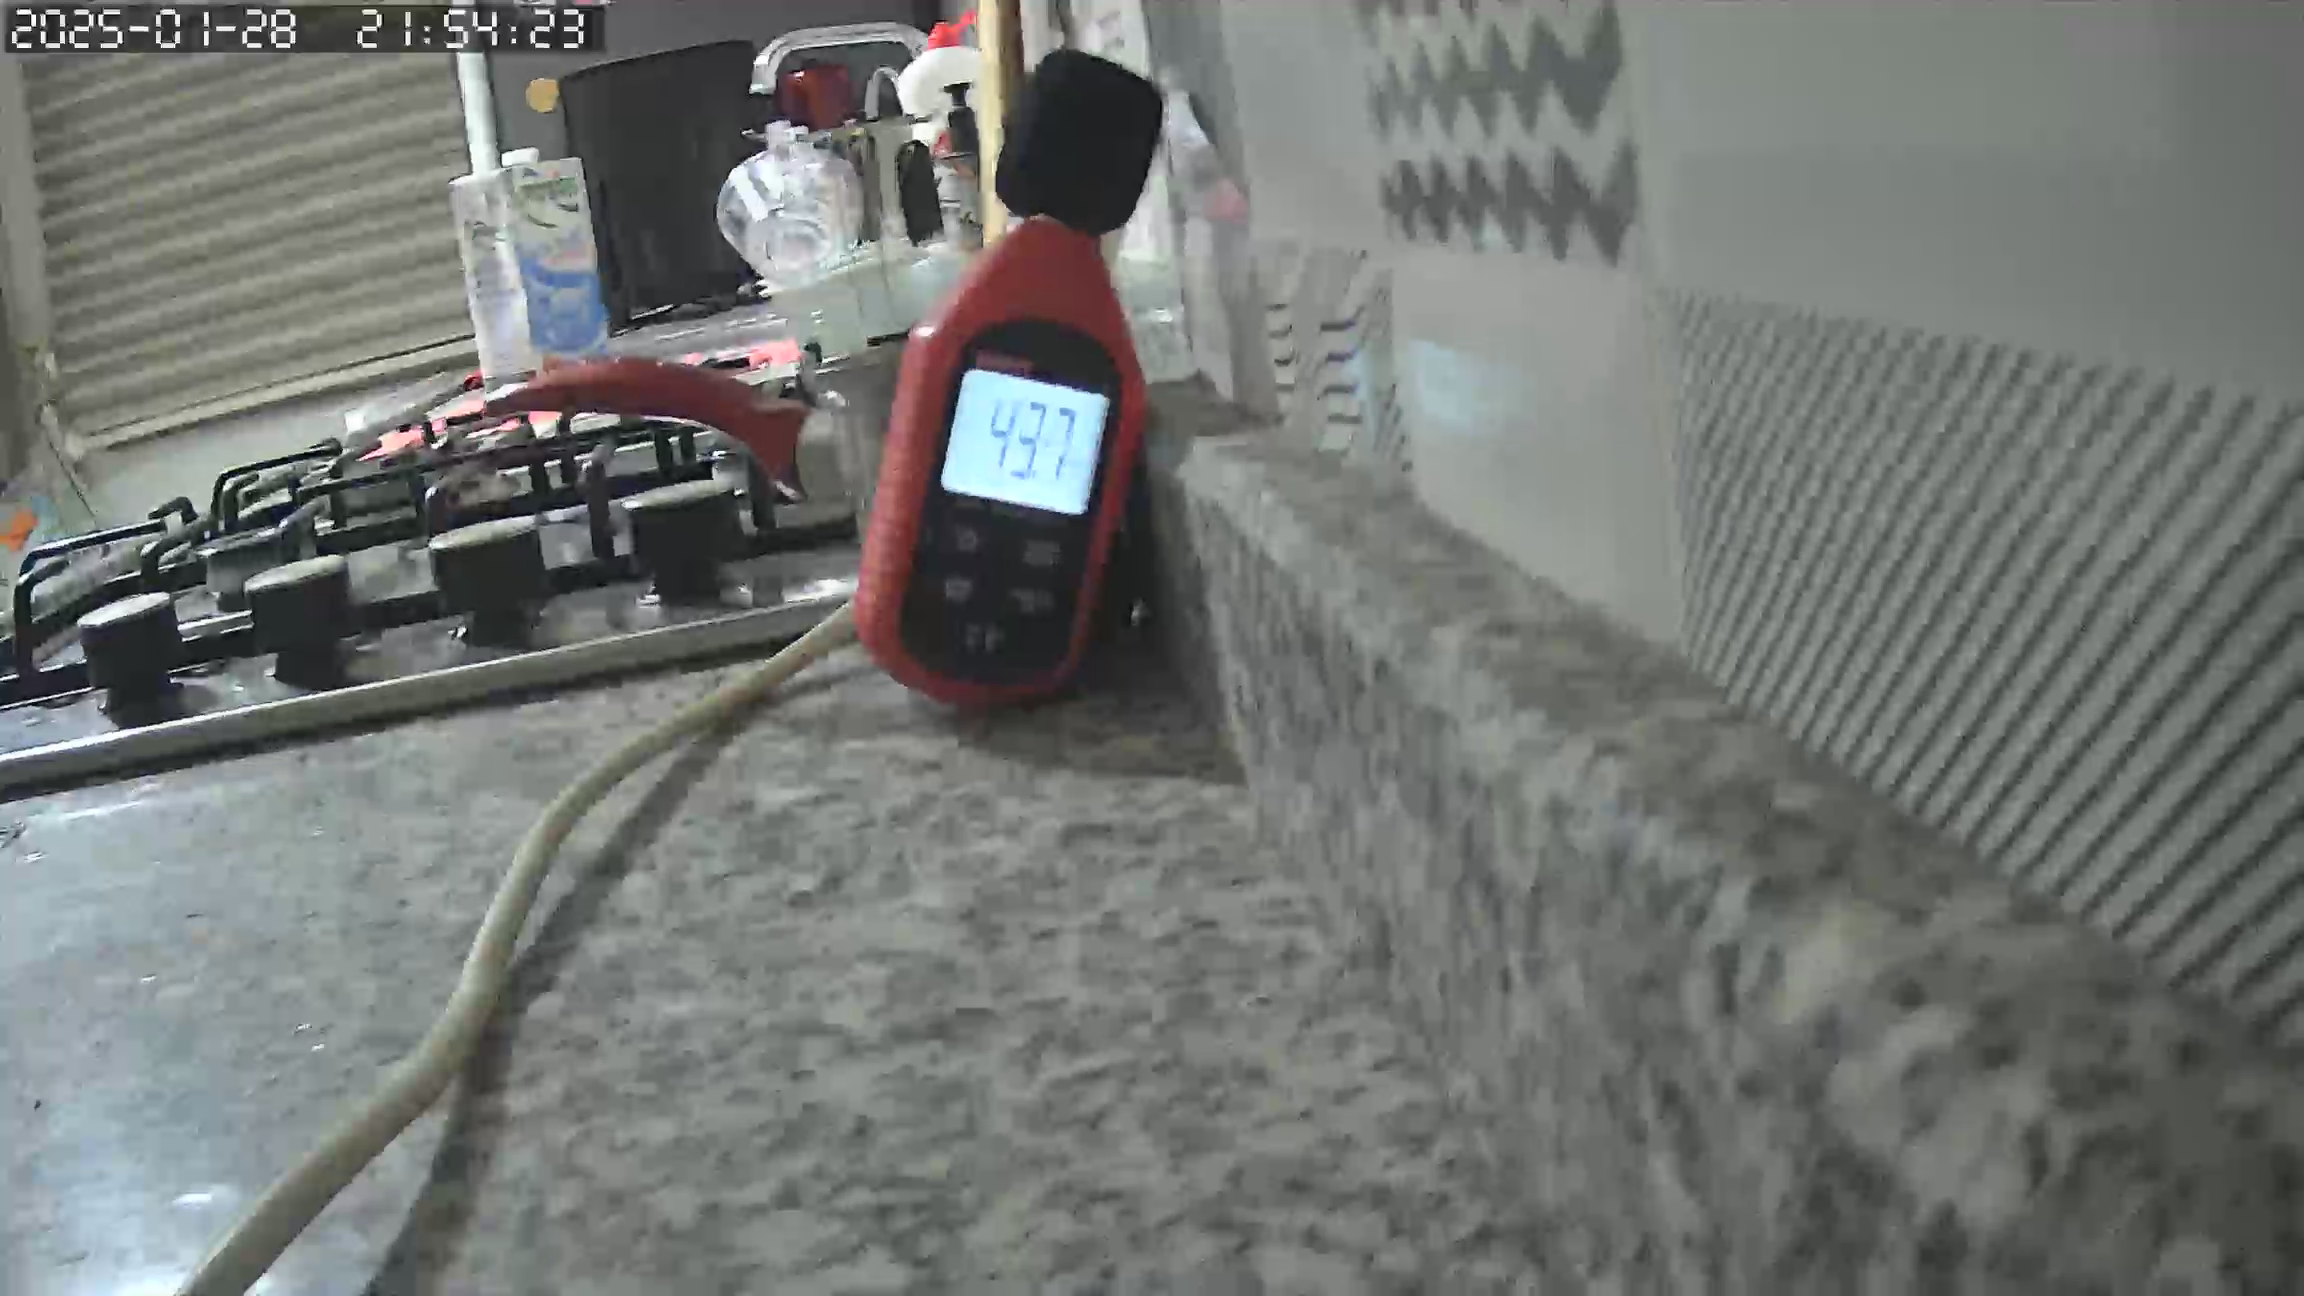screen: (942, 367, 1109, 511)
